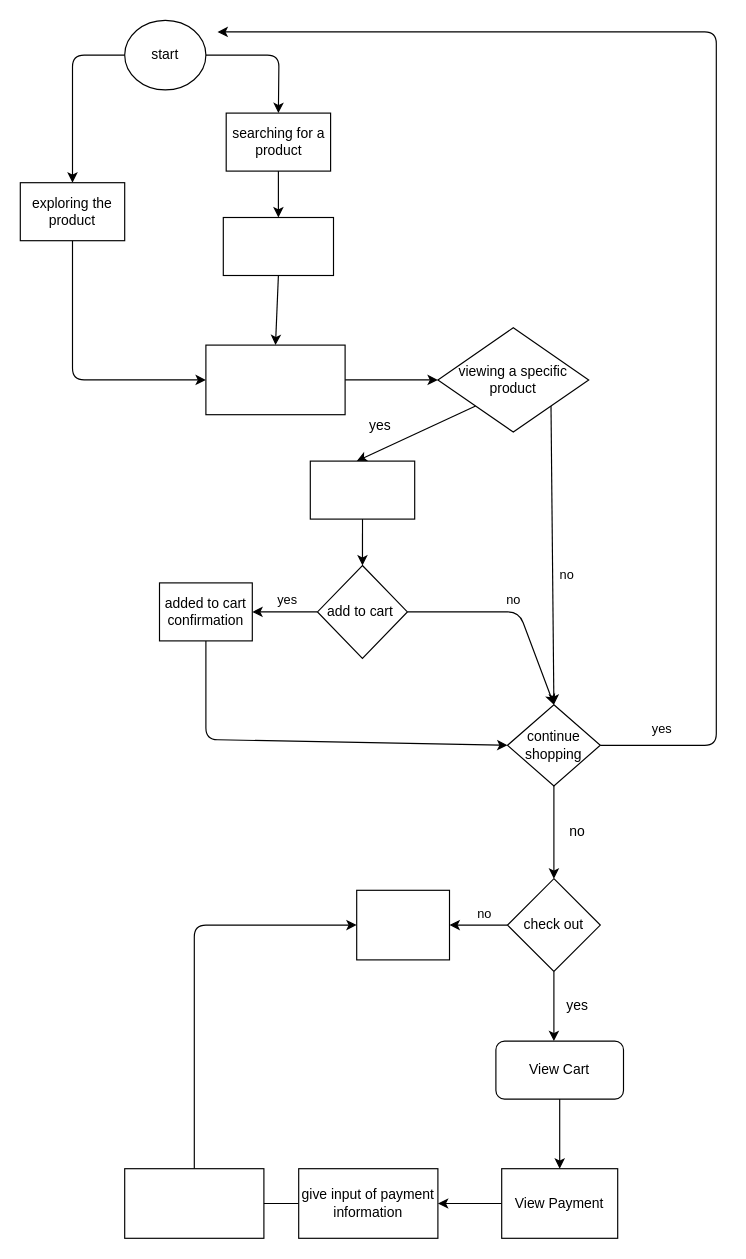
The diagram is 746 pixels wide and 1259 high, and some of its shapes have lost their labels. The shapes that lost their labels are listed below. From the top down, each one's centre as x and y in pixels, then its label:
At (278,246): "show search item".
At (275,379): "looking over the products".
At (362,489): "open product’s webpage".
At (402,924): "leave the website".
At (194,1203): "order confirmation and email".
